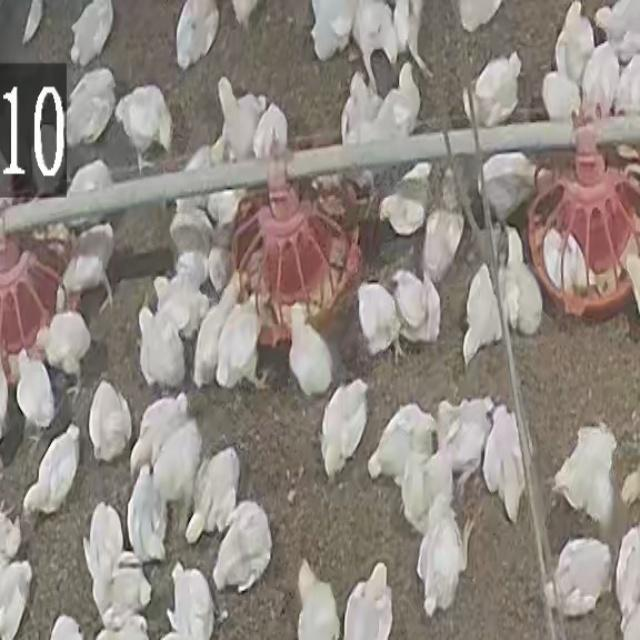chicken: (554, 426, 620, 522), (185, 447, 240, 544), (23, 424, 79, 516), (214, 502, 269, 594), (475, 151, 548, 219), (58, 225, 114, 312), (418, 514, 465, 616), (130, 394, 188, 476), (547, 541, 611, 615), (369, 406, 433, 478), (320, 380, 367, 478), (434, 397, 490, 479), (484, 405, 522, 522), (502, 223, 542, 334), (462, 54, 522, 127), (218, 293, 265, 386), (194, 285, 236, 386), (288, 561, 340, 640), (425, 169, 463, 277), (63, 68, 116, 145), (342, 561, 392, 640), (154, 419, 201, 502), (137, 308, 186, 387), (379, 162, 432, 234), (462, 264, 500, 364), (37, 313, 88, 387), (86, 504, 122, 608), (119, 86, 172, 156), (128, 467, 166, 562), (544, 228, 597, 296), (288, 308, 330, 393), (216, 79, 260, 160), (176, 138, 226, 208), (103, 553, 153, 623), (402, 456, 450, 528), (62, 159, 112, 228), (88, 382, 130, 464), (394, 270, 441, 342), (170, 562, 214, 638), (357, 282, 400, 358), (16, 348, 56, 426), (170, 209, 212, 283), (175, 0, 219, 70), (70, 0, 114, 67), (380, 63, 420, 136), (155, 276, 206, 332), (582, 44, 618, 122), (354, 0, 396, 65), (312, 0, 356, 62), (556, 2, 590, 82), (593, 0, 640, 56), (0, 561, 32, 640), (616, 529, 640, 631), (341, 72, 376, 140), (542, 74, 580, 123), (254, 104, 287, 160), (211, 215, 235, 292)
